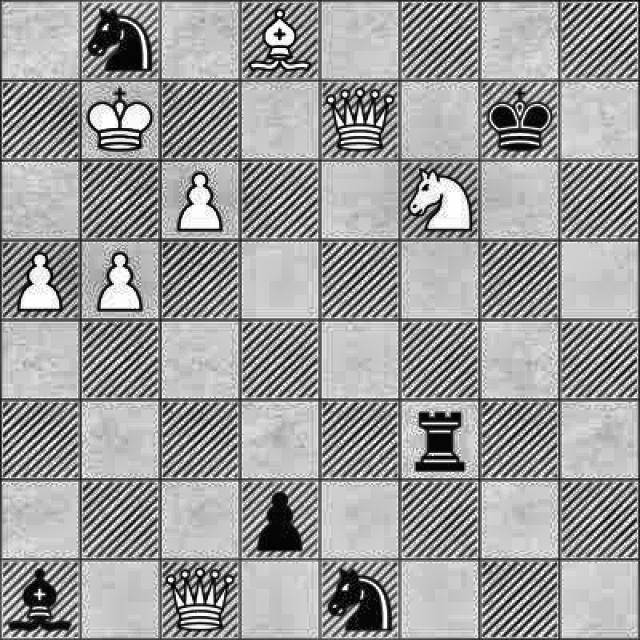Black Knight: (326, 558, 396, 640), (84, 3, 156, 79)
black bishop: (5, 560, 80, 639)
black king: (488, 82, 554, 158)
black pawn: (245, 483, 312, 556)
black rook: (406, 400, 476, 476)
white bishop: (246, 7, 316, 78)
white king: (81, 81, 158, 159)
white pawn: (1, 248, 75, 316), (86, 244, 152, 312), (168, 167, 232, 237)
white queen: (162, 565, 238, 633), (322, 88, 396, 156)
whiteknight: (406, 165, 472, 238)
